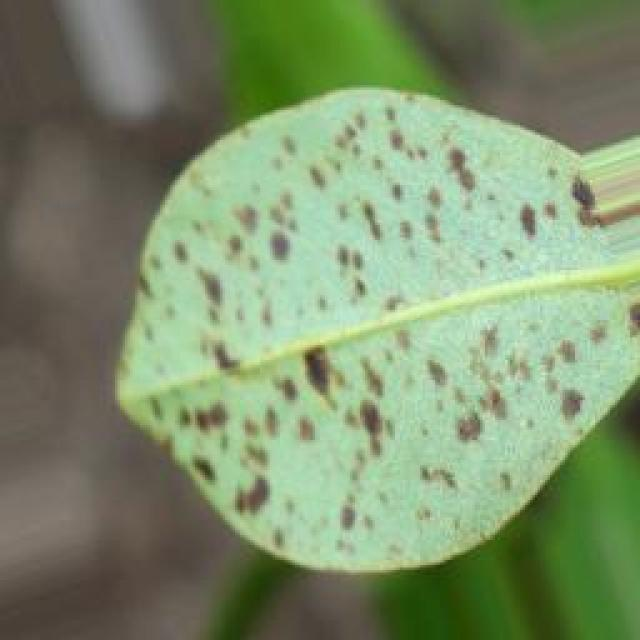Whitefly: (93, 74, 640, 553)
